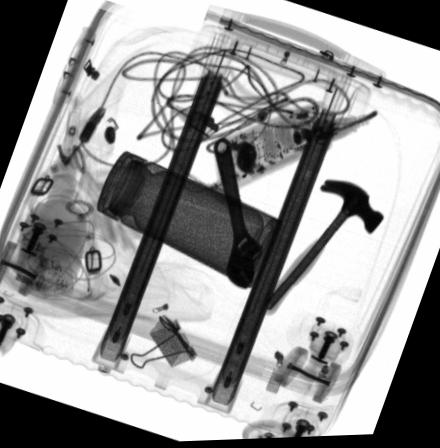Hammer: (258, 180, 385, 318)
Wrench: (213, 135, 263, 289)
